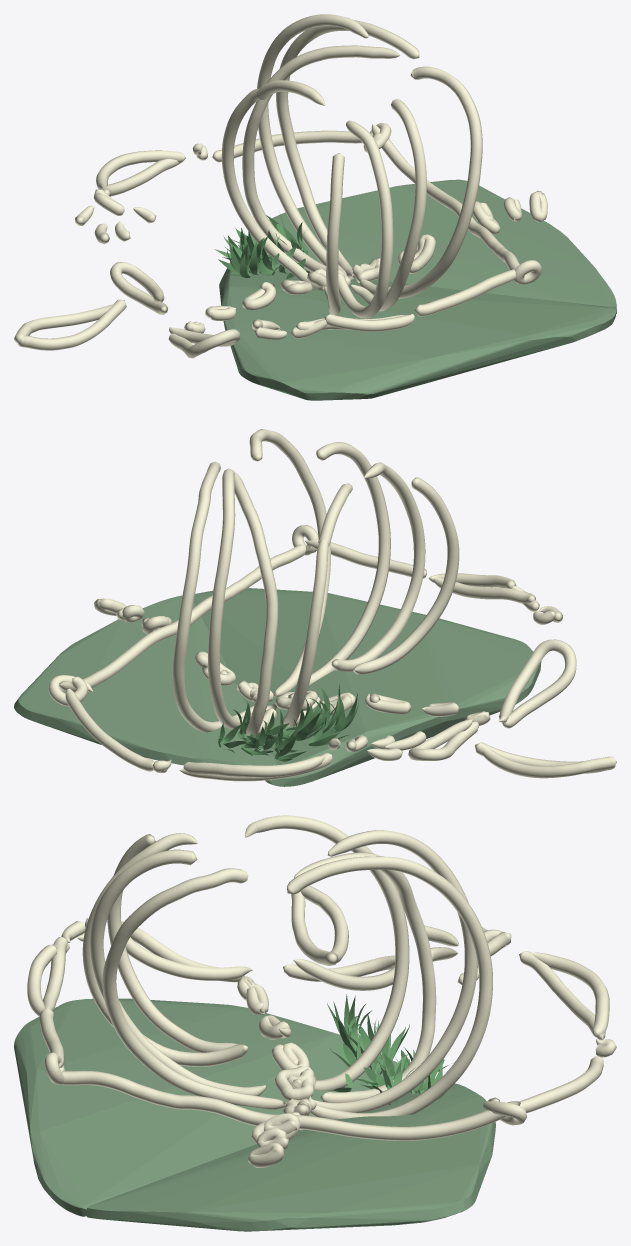
File: rgb_over_255_problem_asset.glb
3 renders of one model, top to bottom at view 1: azimuth 30°, elevation 25°; view 2: azimuth 150°, elevation 25°; view 3: azimuth 270°, elevation 25°, orthographic. The views are drawn at different scales.
Parts seen in each view (by area): view 1: brush_Wire_g0_b0_4, brush_MatteHull_g0_b0_0, brush_Petal_g0_b0_3; view 2: brush_Wire_g0_b0_4, brush_MatteHull_g0_b0_0, brush_Petal_g0_b0_3; view 3: brush_Wire_g0_b0_4, brush_MatteHull_g0_b0_0, brush_Petal_g0_b0_3.
Part boxes in pixels (<box>): brush_Wire_g0_b0_4: <box>14,14,547,358</box>; brush_MatteHull_g0_b0_0: <box>219,179,616,400</box>; brush_Petal_g0_b0_3: <box>214,212,309,279</box>; brush_Wire_g0_b0_4: <box>48,429,616,781</box>; brush_MatteHull_g0_b0_0: <box>14,588,541,786</box>; brush_Petal_g0_b0_3: <box>218,684,358,761</box>; brush_Wire_g0_b0_4: <box>27,815,616,1167</box>; brush_MatteHull_g0_b0_0: <box>14,998,495,1231</box>; brush_Petal_g0_b0_3: <box>327,994,448,1104</box>.
Bounding box in the file's own units: 4.19 × 1.95 × 3.43.
